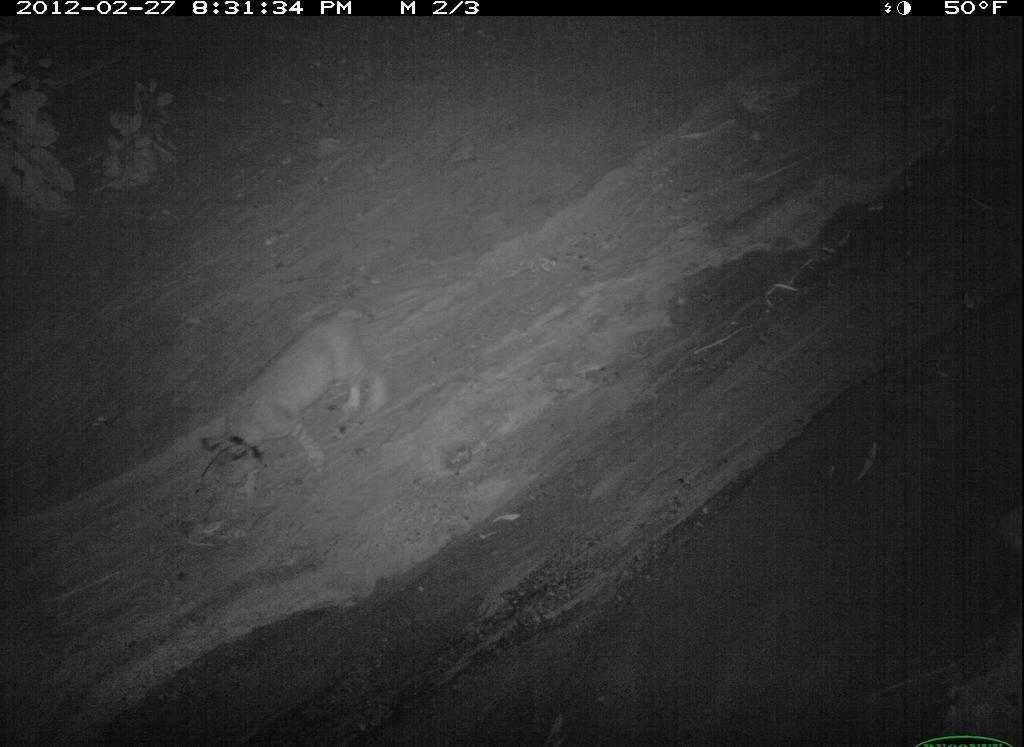bobcat: (393, 595, 788, 747)
